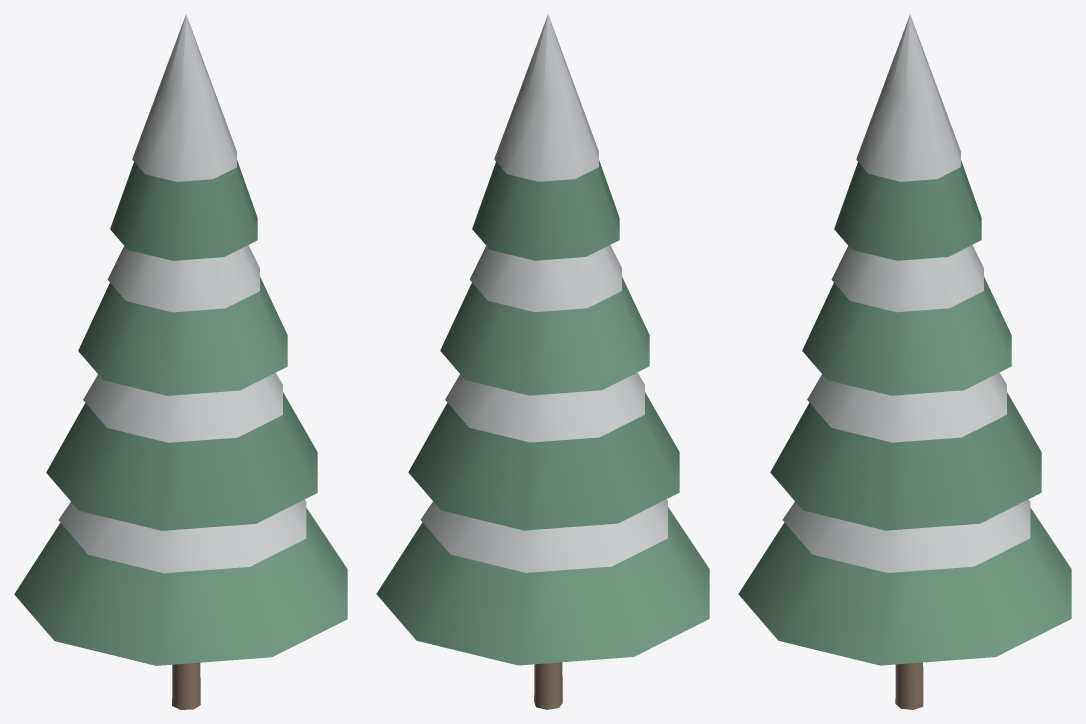
3 renders of one model, left to right at view 1: azimuth 30°, elevation 25°; view 2: azimuth 150°, elevation 25°; view 3: azimuth 270°, elevation 25°, orthographic.
Visible parts, largest first — view 1: Visual; view 2: Visual; view 3: Visual.
Part boxes in pixels (x1,y1,x2,y2): Visual: (14, 14, 347, 709); Visual: (376, 14, 709, 709); Visual: (738, 14, 1071, 709).
Size of the model in its own units: 8.27 by 18.6 by 8.15.
